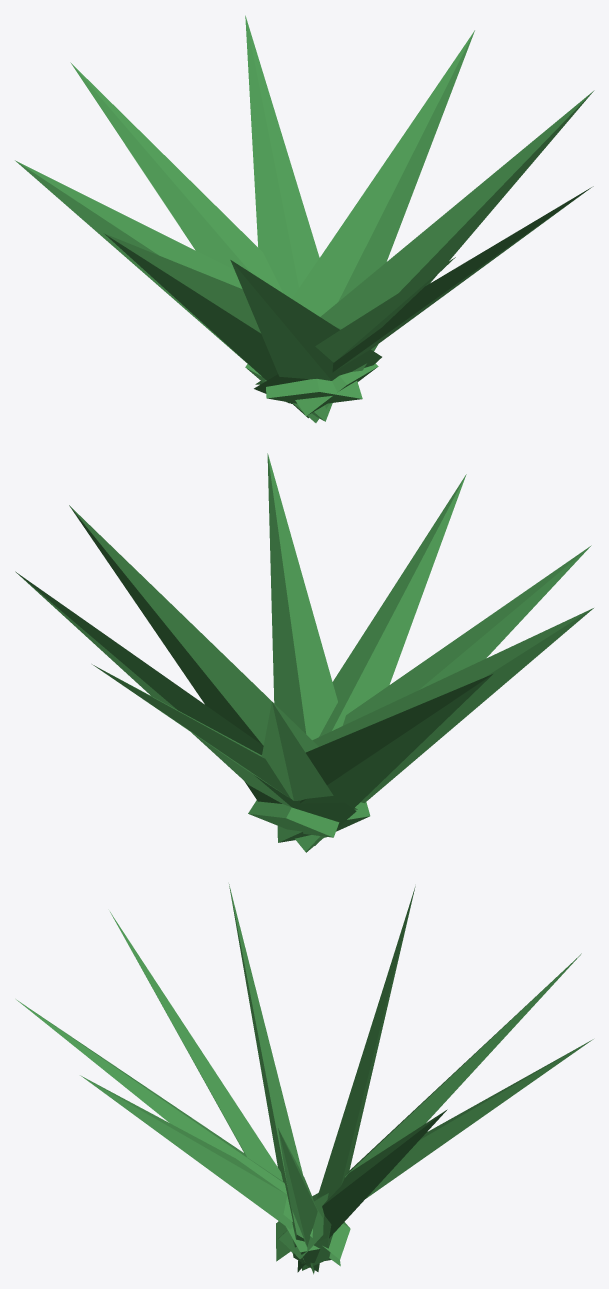
The model's file is fern.glb.
3 views of the same model, one above another, from view 1: azimuth 30°, elevation 25°; view 2: azimuth 150°, elevation 25°; view 3: azimuth 270°, elevation 25° (orthographic). The views are drawn at different scales.
Parts seen in each view (by area): view 1: fern; view 2: fern; view 3: fern.
Boxes of the visible parts, x1,y1,x2,y2 form: fern: [15, 15, 594, 422]; fern: [15, 453, 593, 852]; fern: [16, 884, 593, 1274].
Bounding box in the file's own units: 1.38 × 0.7275 × 1.39.
